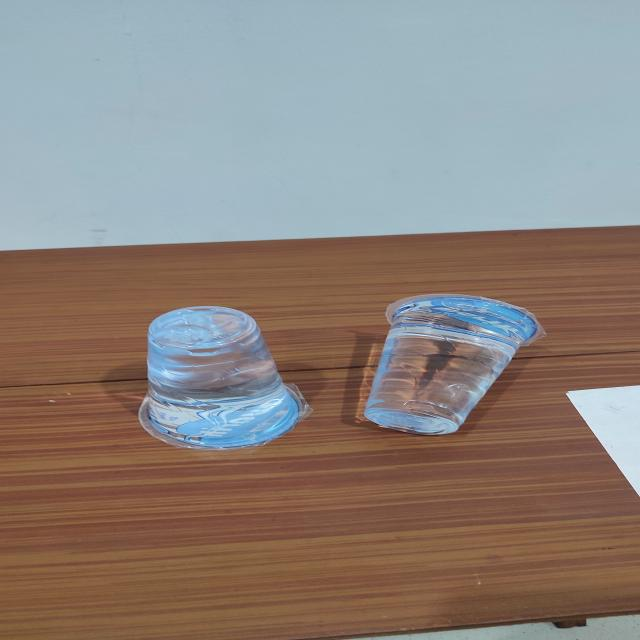air gelas: (121, 301, 319, 461), (355, 289, 531, 432)
